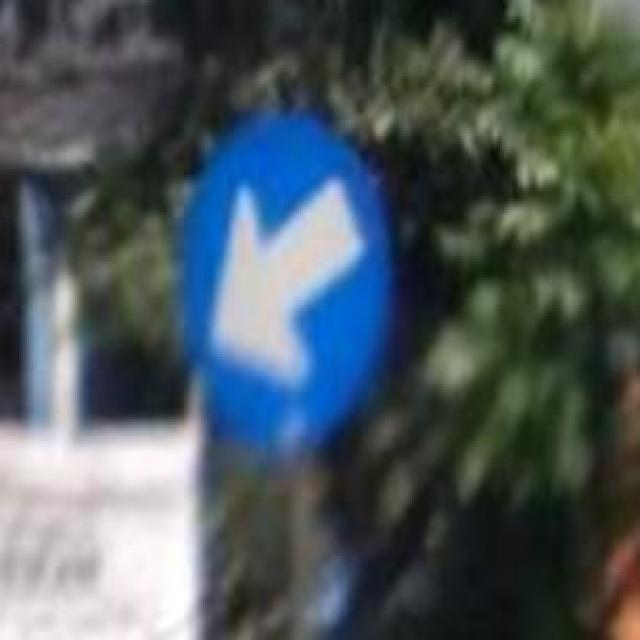traffic sign: (186, 120, 389, 444)
